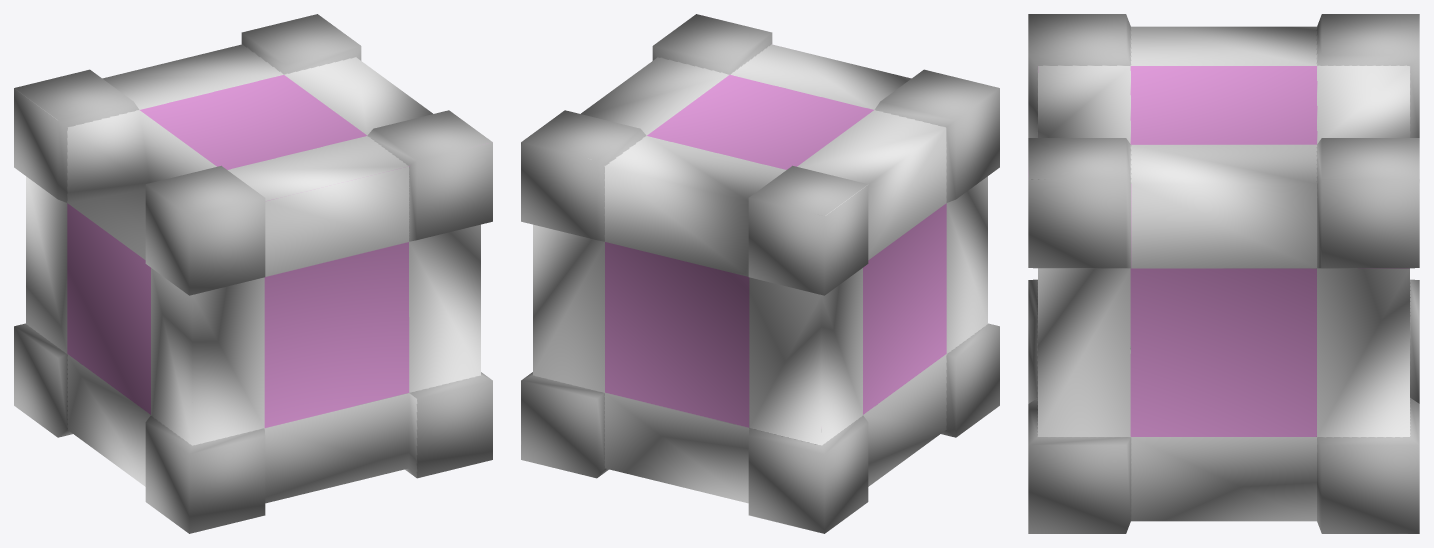
The model's file is NormalBox.fbx.
The picture shows the model from 3 angles, left to right: view 1: azimuth 30°, elevation 25°; view 2: azimuth 150°, elevation 25°; view 3: azimuth 270°, elevation 25°; orthographic projection. The views are drawn at different scales.
Visible parts, largest first — view 1: NormalBox; view 2: NormalBox; view 3: NormalBox.
Boxes of the visible parts, x1,y1,x2,y2 form: NormalBox: (14,14,492,533); NormalBox: (521,14,999,533); NormalBox: (1028,14,1419,533).
Bounding box in the file's own units: 60.57 × 60.57 × 60.57.
